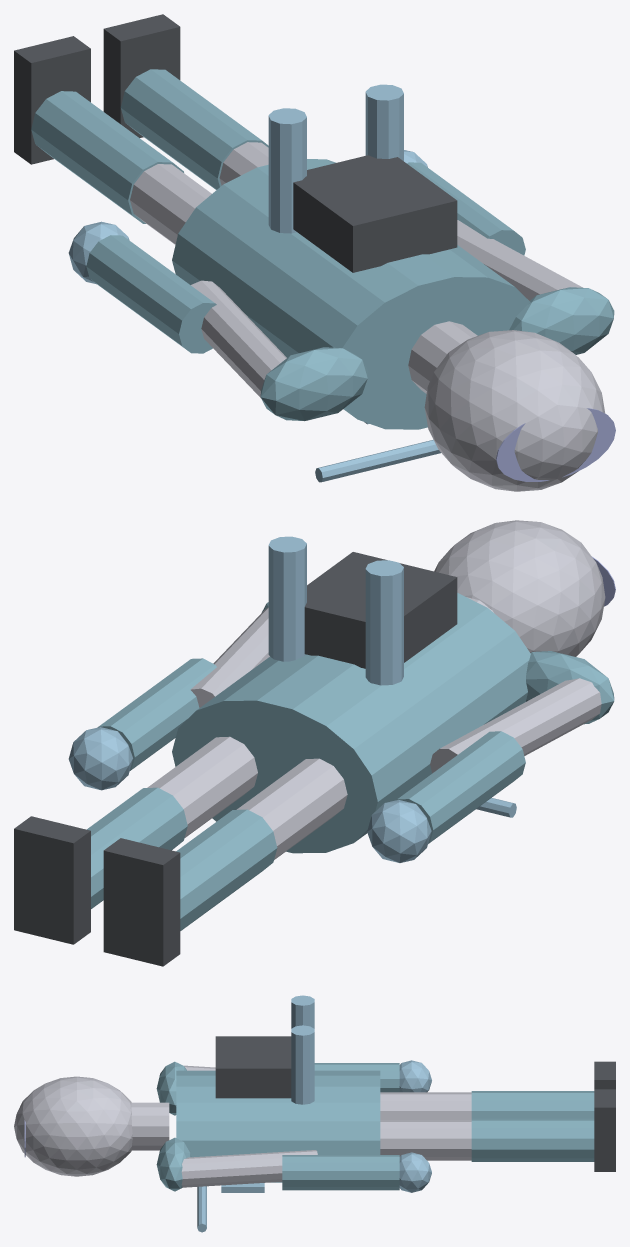
File: SWN-015_salen_oru.glb
The picture shows the model from 3 angles, top to bottom: view 1: azimuth 30°, elevation 25°; view 2: azimuth 150°, elevation 25°; view 3: azimuth 270°, elevation 25°; orthographic projection. The views are drawn at different scales.
Parts seen in each view (by area): view 1: body_spine, head, back_thruster_pack, greave_-1, greave_1, forearm_gauntlet_-1, shoulder_plate_-1, boot_-1, boot_1, shoulder_plate_1, upper_arm_-1, aether_thruster_-1 (+9 smaller); view 2: body_spine, head, back_thruster_pack, boot_-1, boot_1, greave_-1, forearm_gauntlet_-1, thigh_-1, thigh_1, upper_arm_-1, forearm_gauntlet_1, greave_1 (+6 smaller); view 3: body_spine, head, greave_1, back_thruster_pack, forearm_gauntlet_1, thigh_1, greave_-1, upper_arm_1, thigh_-1, aether_thruster_1, boot_1, neck (+9 smaller).
Boxes of the visible parts, <box> form: body_spine: <box>172,159,530,429</box>; head: <box>424,330,605,491</box>; back_thruster_pack: <box>293,155,457,272</box>; greave_-1: <box>31,91,183,223</box>; greave_1: <box>120,69,268,189</box>; forearm_gauntlet_-1: <box>86,235,216,353</box>; shoulder_plate_-1: <box>260,347,368,421</box>; boot_-1: <box>14,36,90,164</box>; boot_1: <box>103,14,180,137</box>; shoulder_plate_1: <box>509,287,614,354</box>; upper_arm_-1: <box>191,280,286,397</box>; aether_thruster_-1: <box>268,108,306,233</box>; body_spine: <box>172,593,530,853</box>; head: <box>434,520,605,656</box>; back_thruster_pack: <box>304,552,457,668</box>; boot_-1: <box>103,838,180,966</box>; boot_1: <box>14,816,90,944</box>; greave_-1: <box>176,809,277,930</box>; forearm_gauntlet_-1: <box>396,731,525,843</box>; thigh_-1: <box>236,758,347,859</box>; thigh_1: <box>147,736,257,837</box>; upper_arm_-1: <box>430,678,601,773</box>; forearm_gauntlet_1: <box>97,658,216,770</box>; greave_1: <box>87,787,187,908</box>; body_spine: <box>176,1070,380,1182</box>; head: <box>14,1076,132,1176</box>; greave_1: <box>471,1118,594,1161</box>; back_thruster_pack: <box>215,1036,291,1098</box>; forearm_gauntlet_1: <box>282,1155,399,1190</box>; thigh_1: <box>380,1120,471,1160</box>; greave_-1: <box>471,1091,594,1118</box>; upper_arm_1: <box>181,1150,317,1187</box>; thigh_-1: <box>380,1092,471,1119</box>; aether_thruster_1: <box>291,1025,314,1104</box>; boot_1: <box>594,1089,615,1171</box>; neck: <box>131,1102,169,1150</box>.
Bounding box in the file's own units: 0.95 × 0.758 × 2.21.
